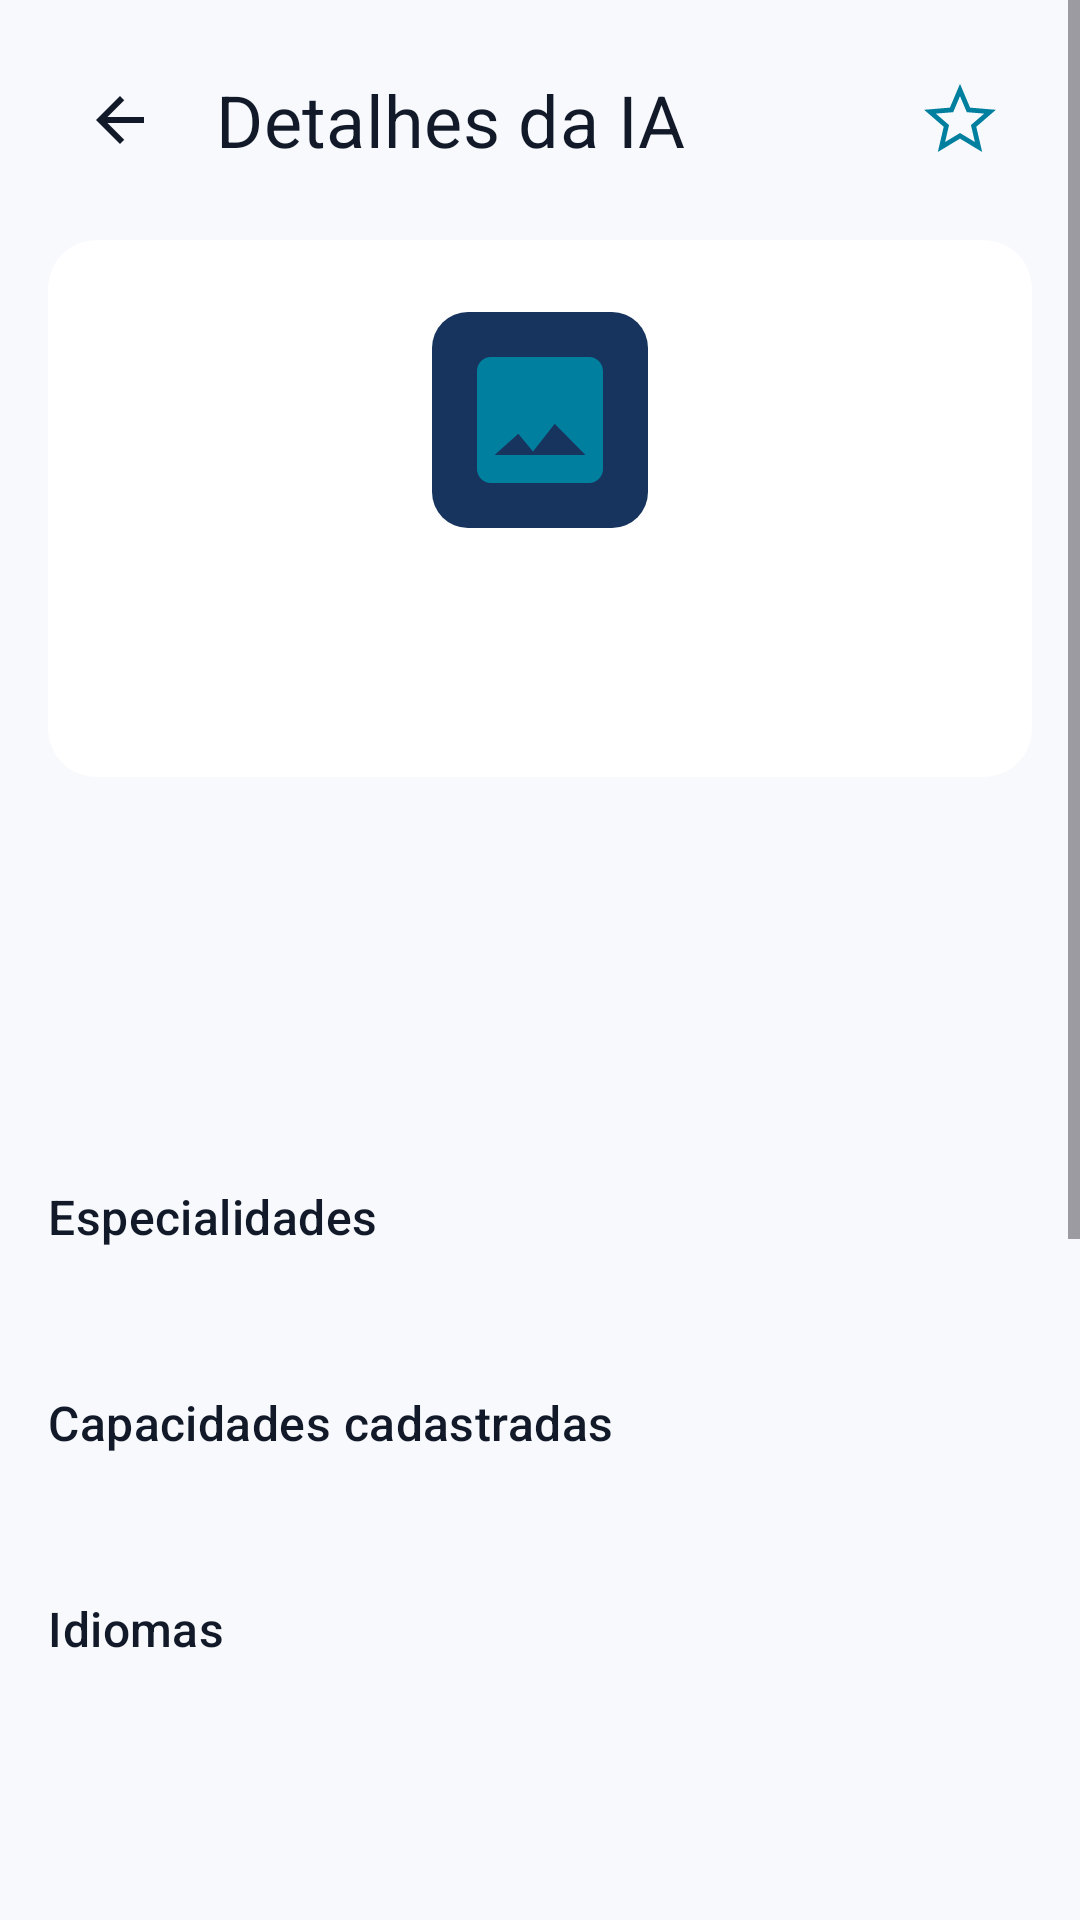

Named icons in this screenshot (1080×1920) and their bounding boxes, [left=x1, top=y1, right=x2, bottom=y2]:
Favoritar: [left=924, top=84, right=996, bottom=152]
Voltar: [left=96, top=96, right=144, bottom=144]
